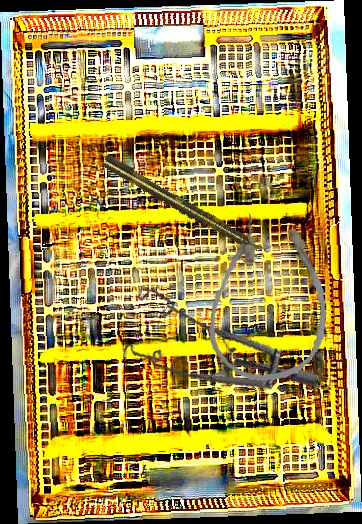Cannula: (205, 210, 335, 386)
Handpiece: (99, 152, 270, 260)
Speculum: (111, 256, 320, 420)
